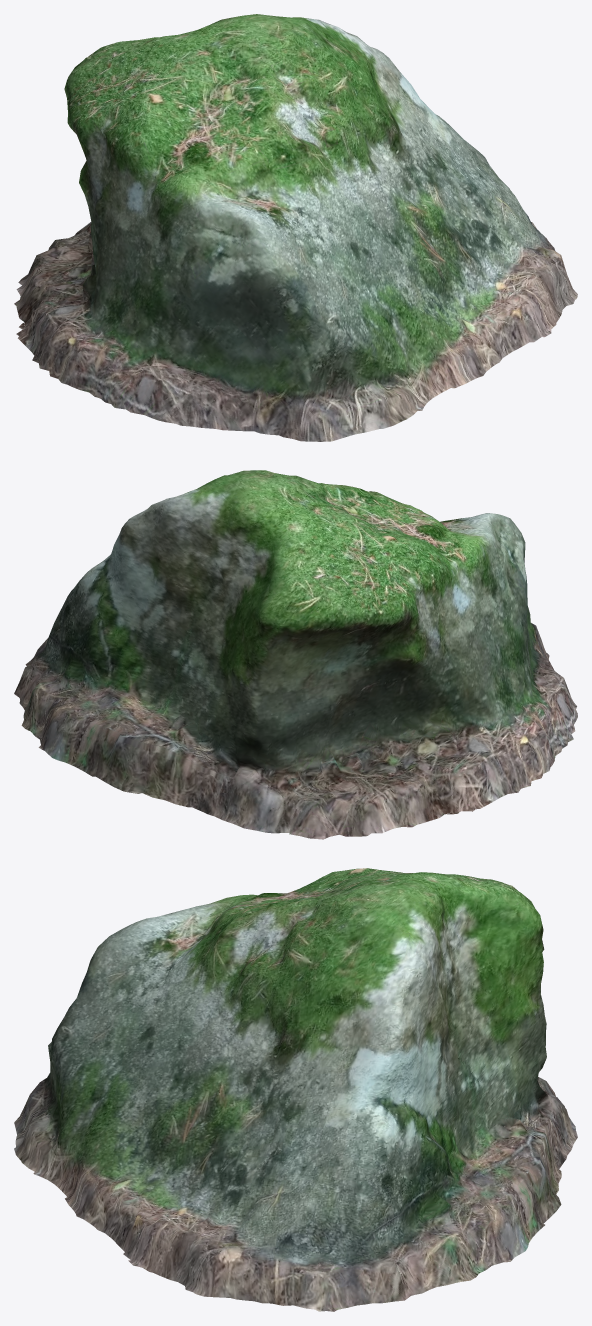
Rendered from rock_mossy.glb.
3 views of the same model, one above another, from view 1: azimuth 30°, elevation 25°; view 2: azimuth 150°, elevation 25°; view 3: azimuth 270°, elevation 25° (orthographic). The views are drawn at different scales.
Visible parts, largest first — view 1: LOD0; view 2: LOD0; view 3: LOD0.
Part boxes in pixels (<box>): LOD0: <box>14,14,577,441</box>; LOD0: <box>14,470,577,839</box>; LOD0: <box>14,868,577,1311</box>.
Size of what is drawn, in the model's own units: 2.2 by 1.1 by 1.98.
1 material, 1 textured.
